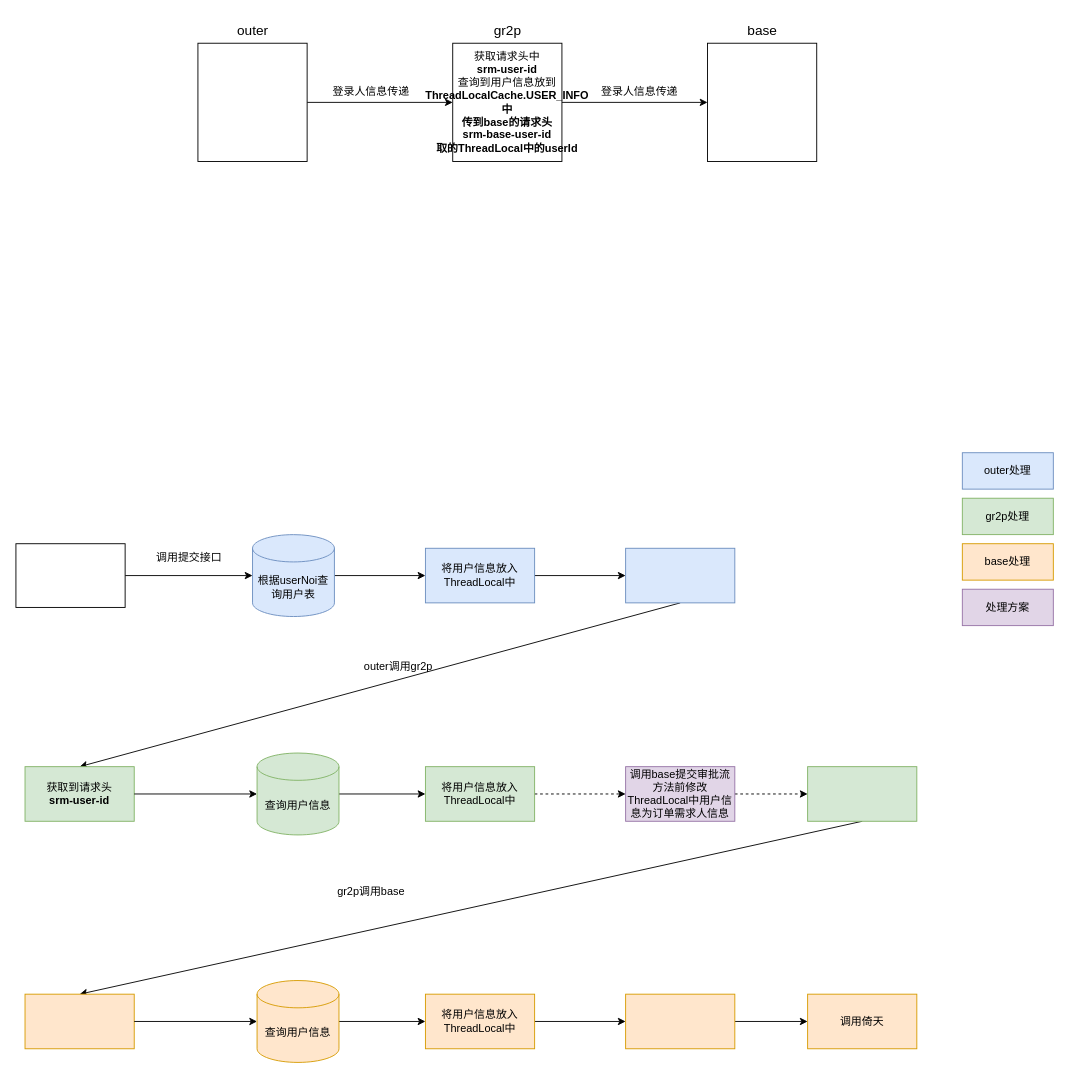
This 1069x1078 diagram has some shape labels left out. Each missing label, with the centre of its shape:
供应商用户ID传入 请求头 srm-user-id: point 252,102
前端（协同）: point 70,575
组装请求头 srm-base-user-id 取值为ThreadLocal中的uerId: point 862,793
组装请求头 srm-user-id 取值为ThreadLocal中的uerId: point 680,575
组装请求头 username 取值为ThreadLocal中用户信息的 ldap: point 680,1021
获取到请求头 srm-base-user-id: point 79,1021
调用倚天请求头 username 从ThreadLocal中取到用户信息的ldap: point 762,102
